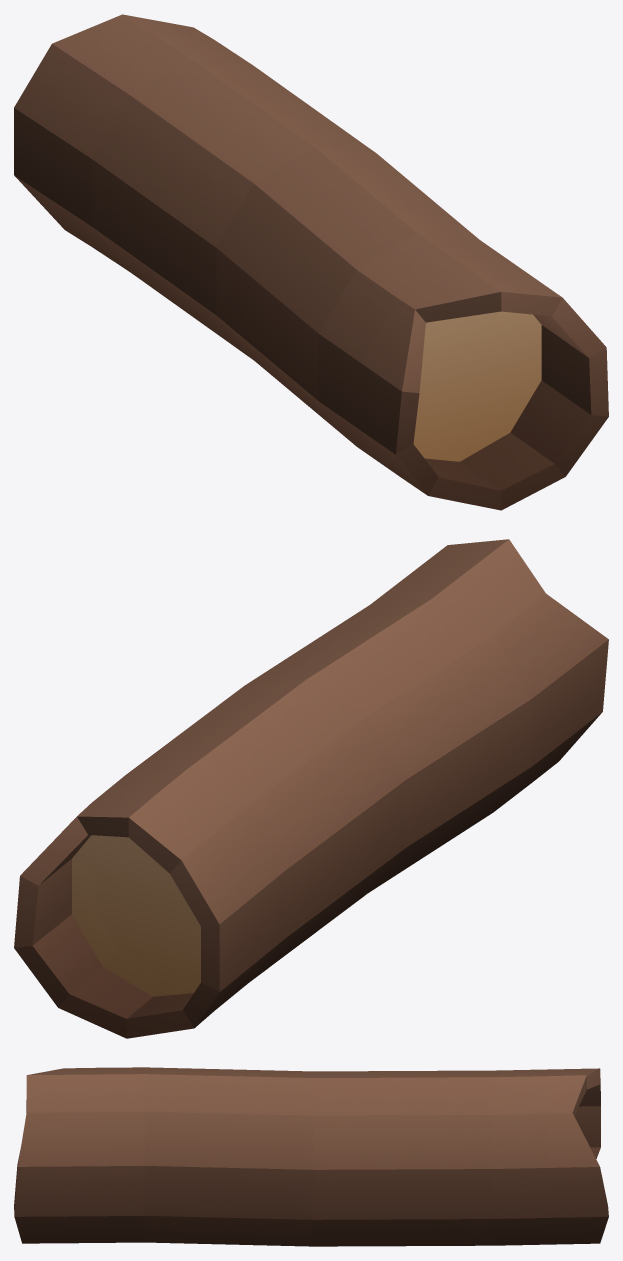
Rendered from kłoda1.fbx.
The picture shows the model from 3 angles, top to bottom: view 1: azimuth 30°, elevation 25°; view 2: azimuth 150°, elevation 25°; view 3: azimuth 270°, elevation 25°; orthographic projection. The views are drawn at different scales.
Parts seen in each view (by area): view 1: kłoda1; view 2: kłoda1; view 3: kłoda1.
Boxes of the visible parts, left/top/right/bottom form: kłoda1: left=14, top=14, right=608, bottom=510; kłoda1: left=14, top=539, right=608, bottom=1038; kłoda1: left=14, top=1067, right=608, bottom=1246.
Size of the model in its own units: 201 by 200 by 667.
